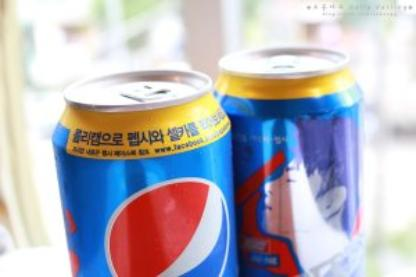Can: (51, 70, 240, 277), (213, 45, 366, 277)
